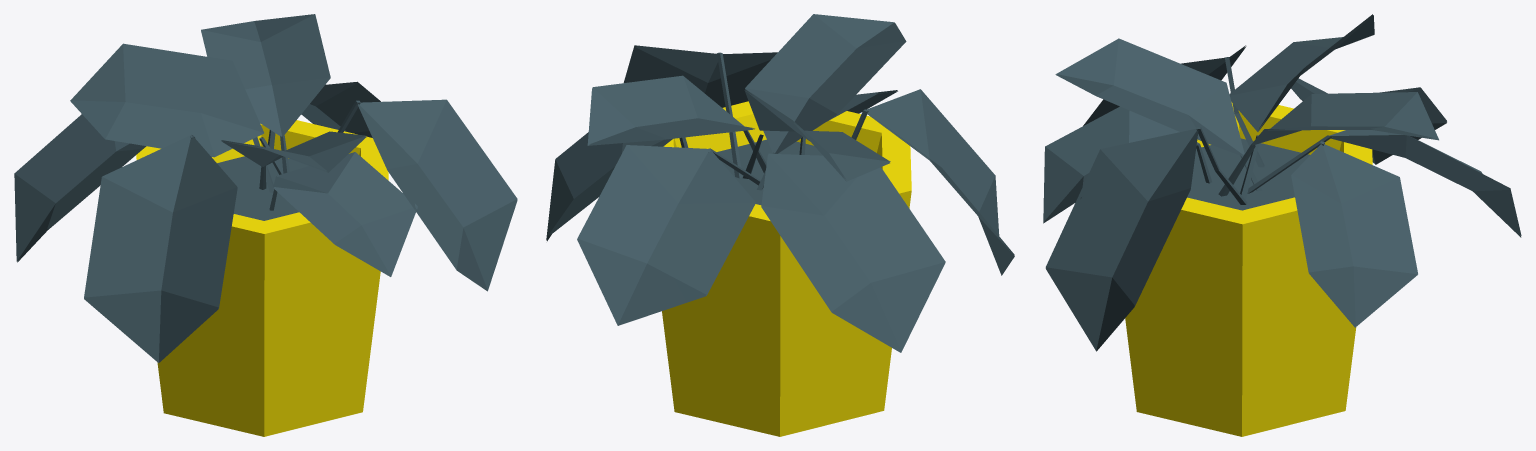
File: Pot2.fbx
3 renders of one model, left to right at view 1: azimuth 30°, elevation 25°; view 2: azimuth 150°, elevation 25°; view 3: azimuth 270°, elevation 25°, orthographic. The views are drawn at different scales.
Parts seen in each view (by area): view 1: Pot2; view 2: Pot2; view 3: Pot2.
Part boxes in pixels (box(x1,y1,x2,y2)): Pot2: box(14, 14, 517, 436); Pot2: box(546, 14, 1014, 436); Pot2: box(1043, 14, 1521, 436).
Size of the model in its own units: 12.57 by 9.39 by 12.22.
